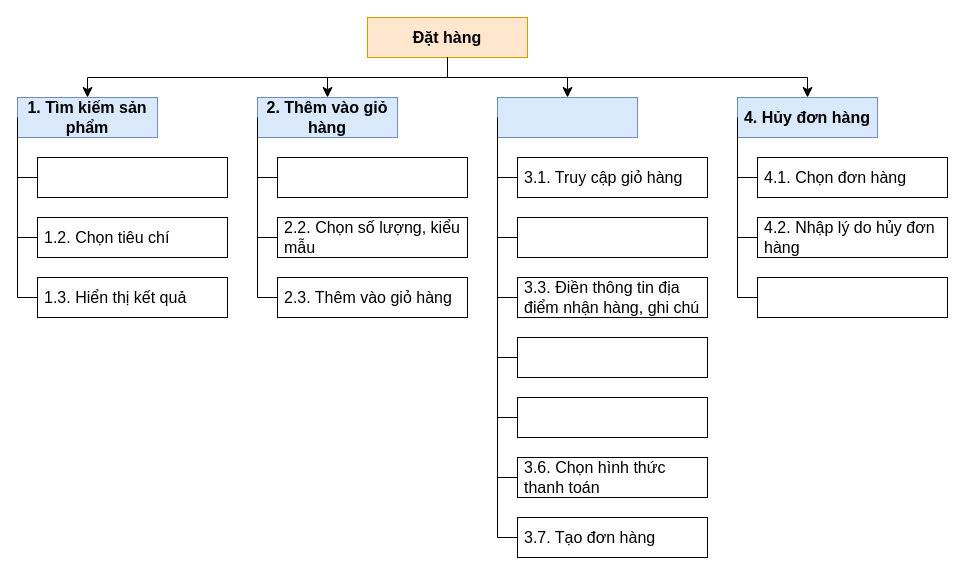
The diagram is 965 pixels wide and 575 high, and some of its shapes have lost their labels. Here are the shapes that lost their labels. From the top down, the centre of each, then its label:
At (x=567, y=117): "3. Đặt hàng".
At (x=132, y=177): "1.1. Nhập tên sản phẩm".
At (x=372, y=177): "2.1. Chọn sản phẩm".
At (x=612, y=237): "3.2. Chọn các sản phẩm muốn mua".
At (x=852, y=297): "4.3. Hủy đơn hàng".
At (x=612, y=357): "3.4. Chọn bộ phận giao hàng".
At (x=612, y=417): "3.5. Chọn voucher".
